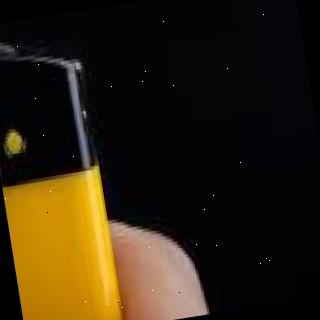fire: (0, 12, 78, 77)
